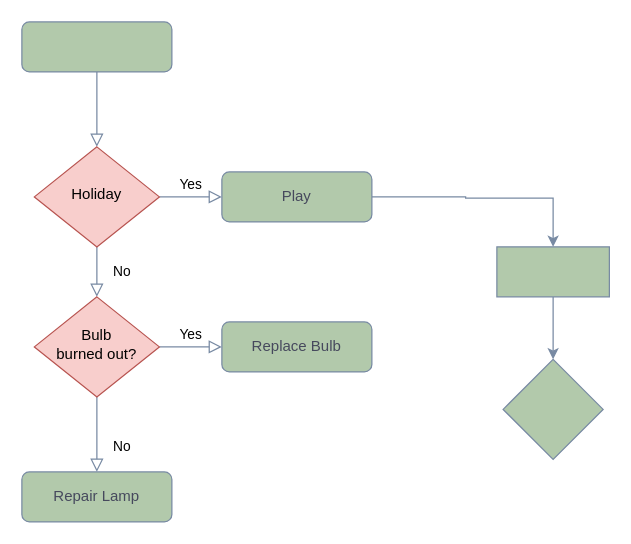
Image size: 631x544. Some labels were removed from this diagram. The centre of each missing label's shape, as x and y in pixels:
Eat breakfast: point (552, 271)
Morning: point (96, 46)
